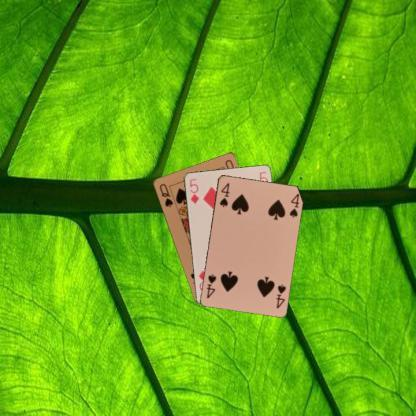4s: (216, 180, 231, 209), (273, 281, 287, 310)
5d: (188, 176, 200, 205)
Qs: (156, 180, 174, 209)
